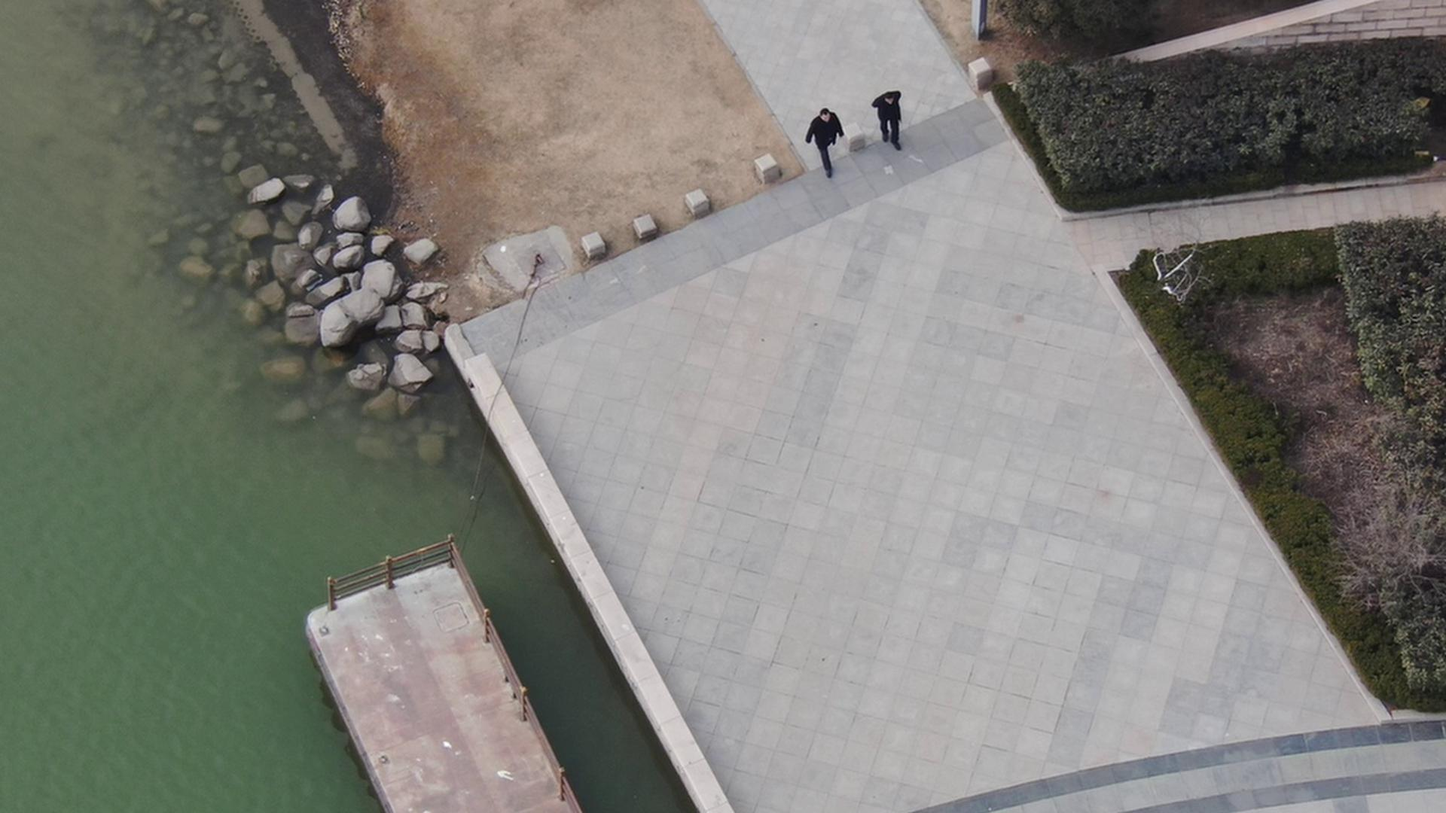human: (779, 96, 836, 166), (852, 78, 890, 142)
